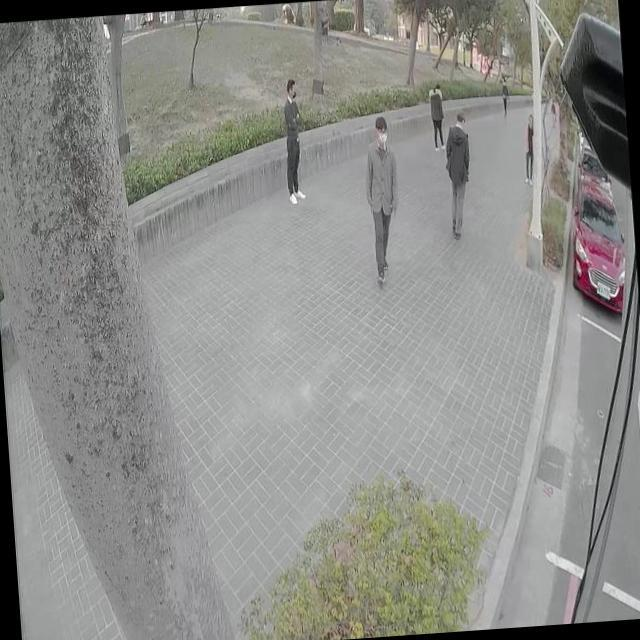person: (360, 114, 406, 287), (440, 112, 474, 238), (280, 79, 306, 202), (427, 82, 445, 149), (522, 115, 537, 183), (499, 76, 508, 112)
